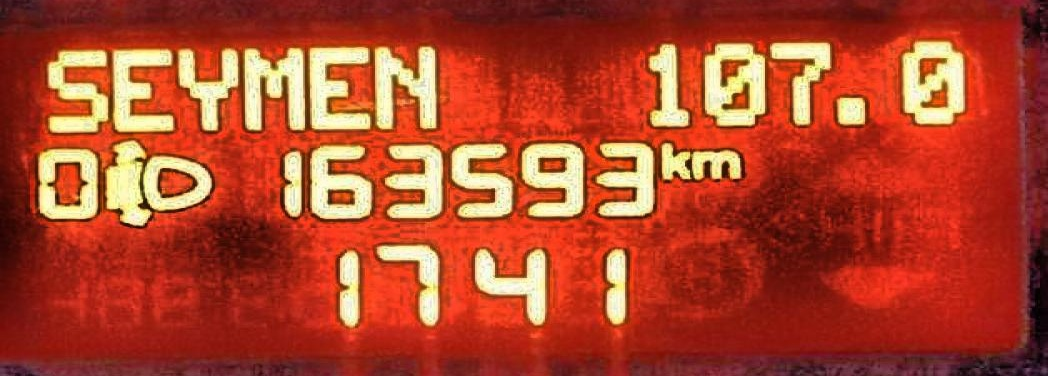-: (826, 91, 871, 130)
0: (893, 35, 969, 128), (700, 37, 765, 127), (33, 143, 99, 222)
1: (641, 39, 691, 131), (331, 242, 366, 332), (601, 242, 628, 332), (275, 145, 305, 220)
3: (380, 140, 445, 219), (593, 140, 654, 217)
4: (469, 245, 558, 330)
5: (448, 139, 514, 218)
6: (306, 140, 371, 223)
7: (766, 38, 835, 129), (375, 240, 441, 329)
9: (518, 137, 586, 218)
X: (369, 43, 438, 132), (43, 42, 106, 135), (238, 44, 303, 133), (306, 43, 370, 132), (173, 43, 236, 133), (111, 44, 171, 133), (688, 147, 743, 180), (655, 138, 690, 182)
